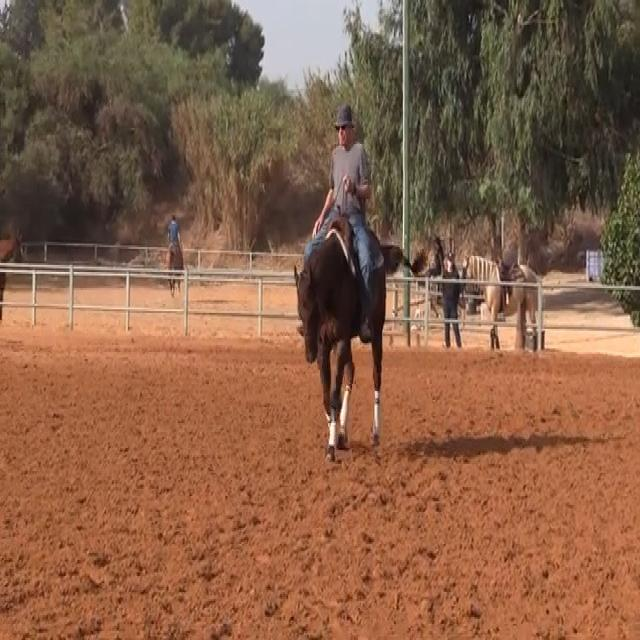horse: (291, 213, 412, 462)
